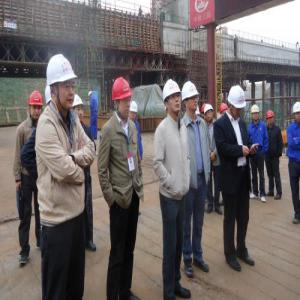red: (113, 78, 133, 119), (28, 92, 44, 124), (266, 109, 276, 127), (222, 102, 230, 116)
white: (47, 50, 78, 114), (163, 81, 183, 119), (228, 86, 247, 119), (183, 79, 199, 113), (72, 92, 86, 123), (204, 104, 216, 124), (131, 99, 139, 121), (252, 104, 261, 122), (294, 101, 300, 125)
